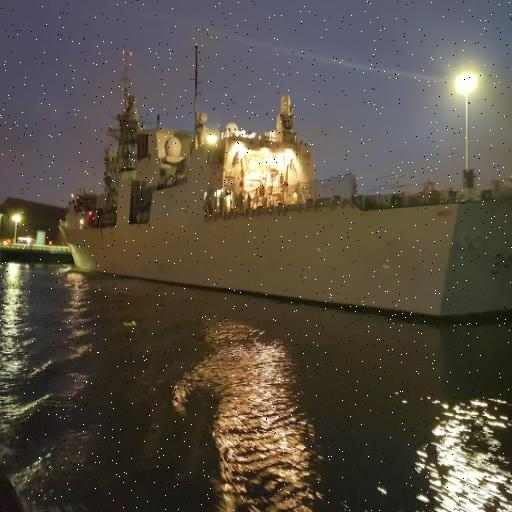Fragata: (56, 28, 512, 329)
